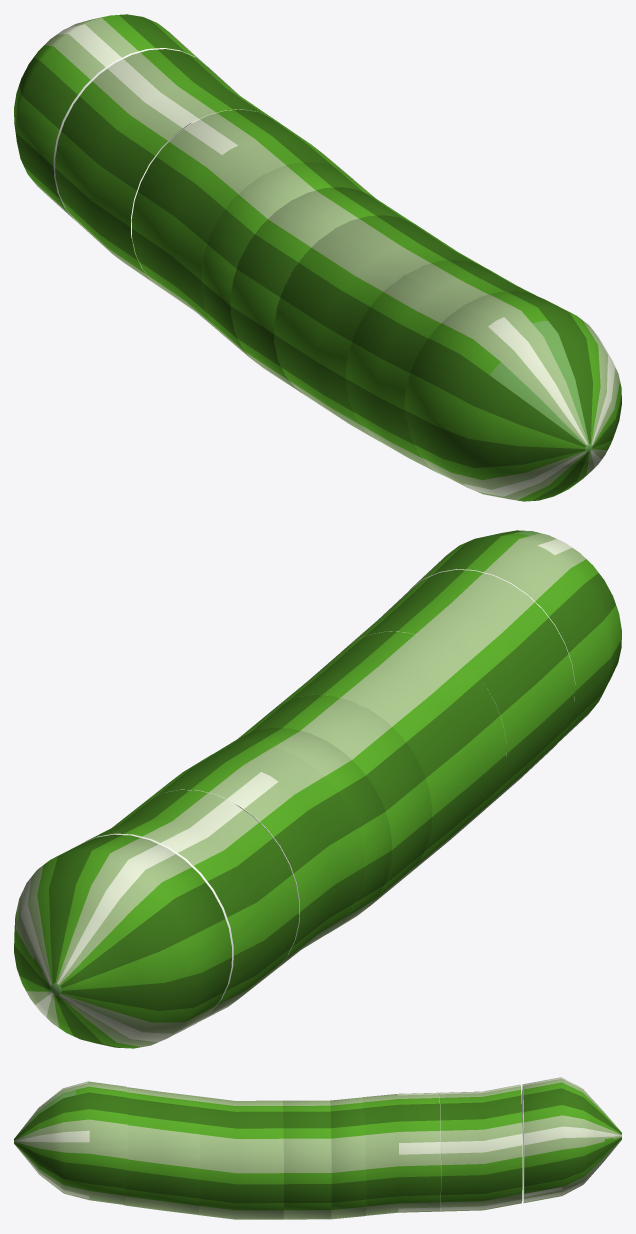
Rendered from Cucumber.fbx.
The picture shows the model from 3 angles, top to bottom: view 1: azimuth 30°, elevation 25°; view 2: azimuth 150°, elevation 25°; view 3: azimuth 270°, elevation 25°; orthographic projection. The views are drawn at different scales.
Visible parts, largest first — view 1: Cylinder.001, Cylinder.006, Cylinder.004, Cylinder.005, Cylinder.003, Cylinder.002, Cylinder.007; view 2: Cylinder.007, Cylinder.003, Cylinder.002, Cylinder.004, Cylinder.006, Cylinder.005, Cylinder.001; view 3: Cylinder.001, Cylinder.003, Cylinder.006, Cylinder.004, Cylinder.007, Cylinder.005, Cylinder.002.
Part boxes in pixels (x1,y1,x2,y2): Cylinder.001: (404, 291, 621, 501); Cylinder.006: (55, 49, 271, 289); Cylinder.004: (201, 162, 412, 395); Cylinder.005: (131, 109, 352, 330); Cylinder.003: (274, 215, 484, 441); Cylinder.002: (346, 260, 535, 475); Cylinder.007: (14, 14, 205, 219); Cylinder.007: (14, 834, 231, 1048); Cylinder.003: (268, 631, 506, 872); Cylinder.002: (342, 570, 576, 807); Cylinder.004: (214, 694, 432, 933); Cylinder.006: (81, 790, 299, 1021); Cylinder.005: (142, 744, 364, 967); Cylinder.001: (410, 530, 621, 741); Cylinder.001: (14, 1081, 127, 1204); Cylinder.003: (197, 1096, 283, 1219); Cylinder.006: (439, 1084, 522, 1211); Cylinder.004: (282, 1097, 366, 1219); Cylinder.007: (522, 1077, 621, 1202); Cylinder.005: (363, 1092, 440, 1215); Cylinder.002: (124, 1087, 199, 1214).
Size of the model in its own units: 158 by 165 by 719.
